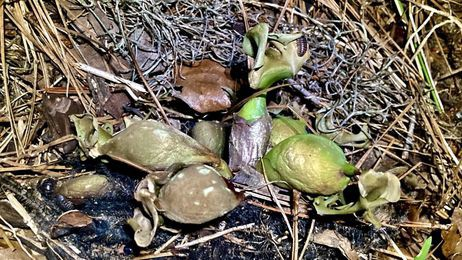water_hyacinth: (41, 13, 398, 237)
